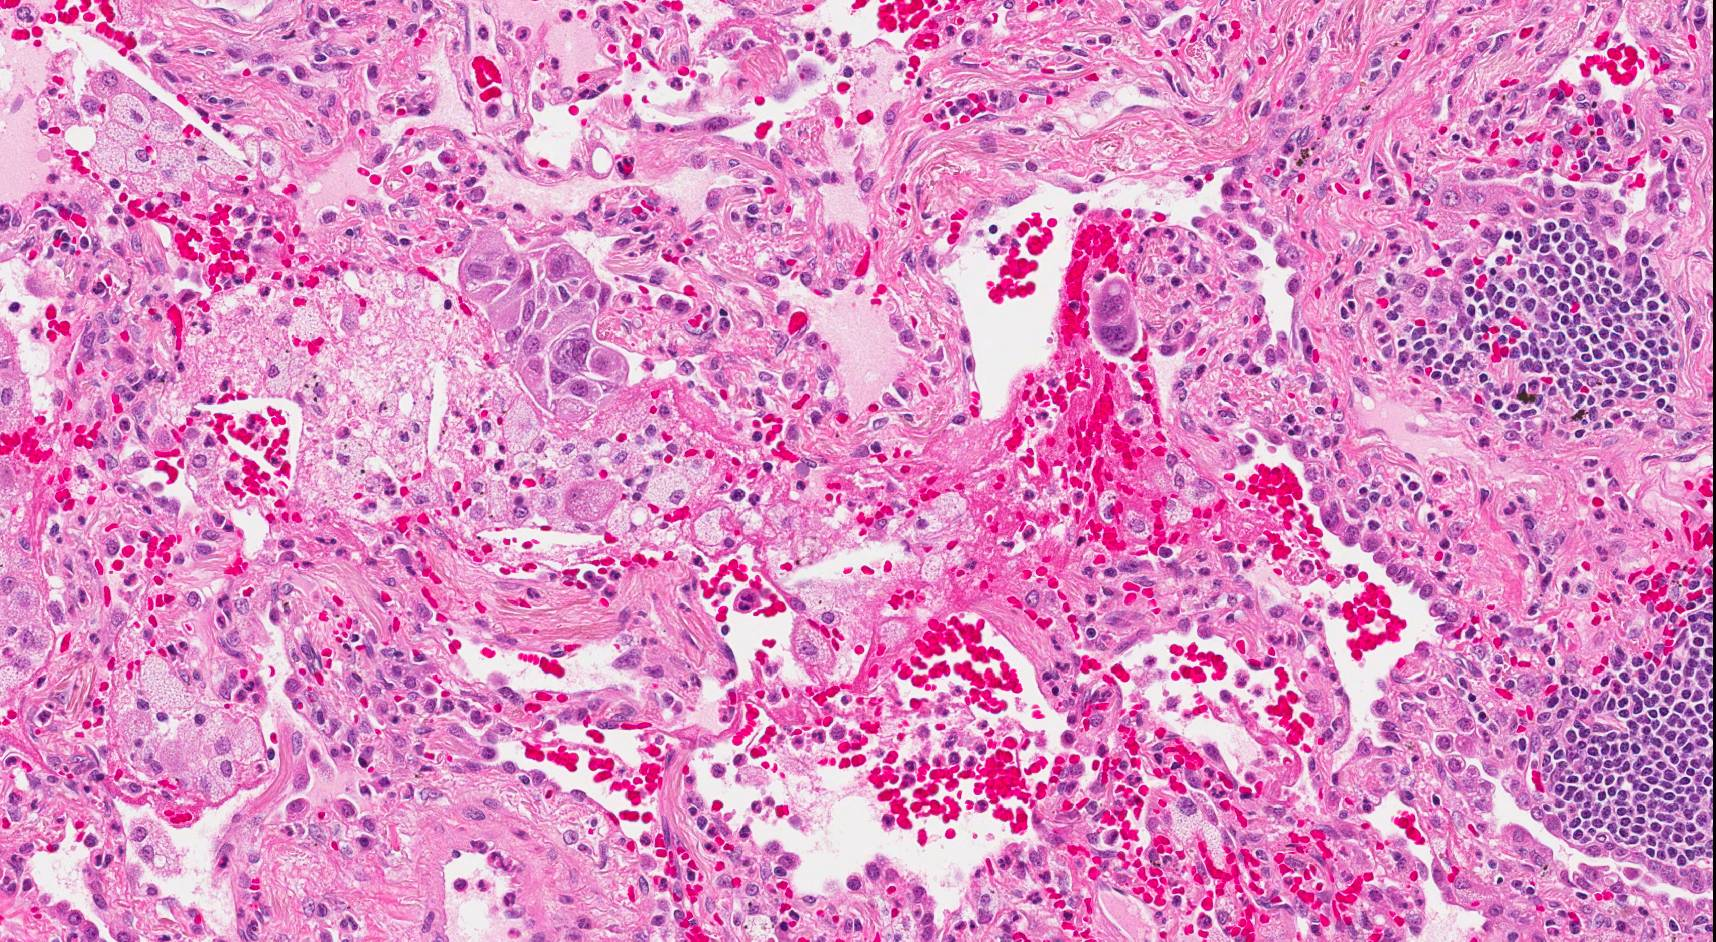stas: (455, 228, 638, 416), (1089, 279, 1144, 357)
